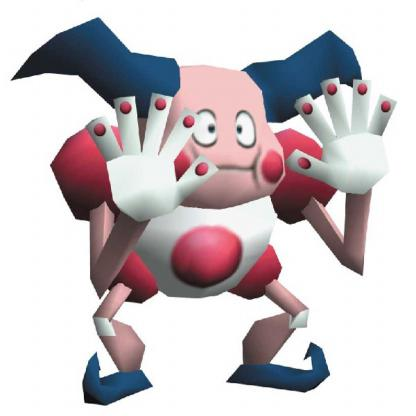Mr. Mime: (10, 14, 393, 408)
